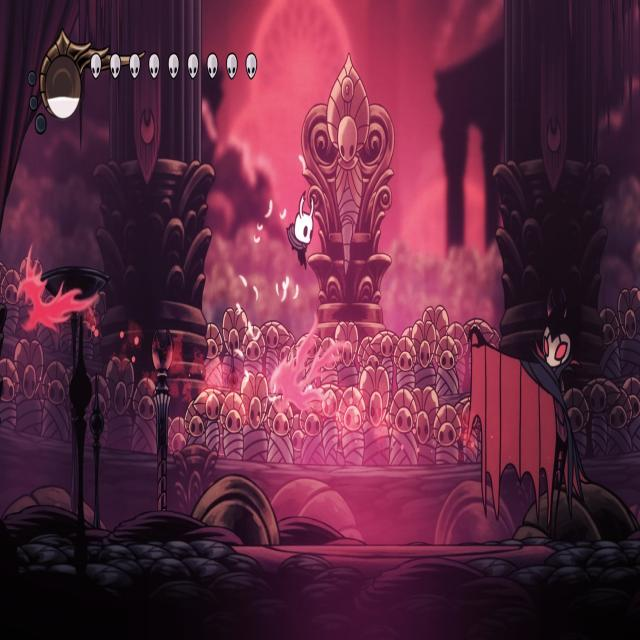Fire Bat: (19, 235, 111, 334), (270, 324, 340, 419)
Open Cloak: (460, 292, 588, 546)
Player: (284, 185, 319, 276)
